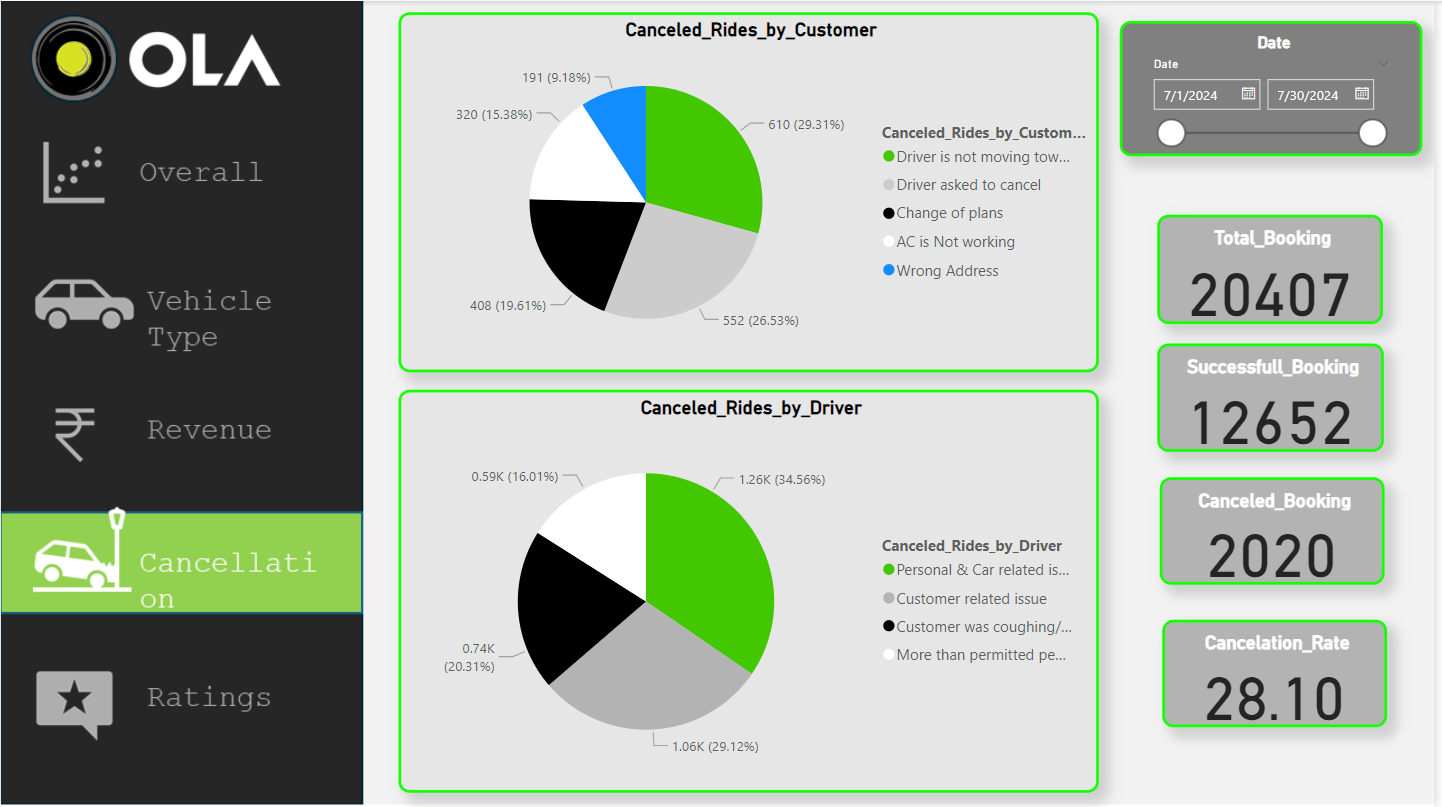

The dashboard page shown, as its layout file describes it:
{"tool":"powerbi","page":{"name":"Cancellation","canvas":[1280,720],"ordinal":3},"visuals":[{"type":"pieChart","title":"Canceled_Rides_by_Customer ","fields":{"Category":["Bookings_Cleaned.Canceled_Rides_by_Customer"],"Y":["CountNonNull(Bookings_Cleaned.Canceled_Rides_by_Customer)"]},"box":[354.6,10.2,625.4,321.8],"z":0},{"type":"pieChart","title":" Canceled_Rides_by_Driver","fields":{"Y":["CountNonNull(Bookings_Cleaned.Canceled_Rides_by_Driver)"],"Category":["Bookings_Cleaned.Canceled_Rides_by_Driver"]},"box":[354.6,347.8,625.4,360.3],"z":1},{"type":"slicer","title":"Date","fields":{"Values":["Bookings_Cleaned.Date"]},"box":[999.5,18,270.6,121],"z":2},{"type":"card","title":"Total_Booking","fields":{"Values":["Count(Bookings_Cleaned.Booking_ID)"]},"box":[1033.3,191.1,201.7,97.6],"z":3},{"type":"card","title":"Successfull_Booking","fields":{"Values":["Count(Bookings_Cleaned.Booking_ID)"]},"box":[1033,305.7,202.3,97.2],"z":4},{"type":"card","title":"Canceled_Booking","fields":{"Values":["Count(Bookings_Cleaned.Booking_ID)"]},"box":[1035.6,425.5,201,95.8],"z":5},{"type":"card","title":"Cancelation_Rate","fields":{"Values":["Bookings_Cleaned.Cancel Percantage"]},"box":[1037,553.3,201,95.8],"z":6}]}

Visuals, with their boxes in screenshot pixels (x1, y1, x2, y2), scaled from the page's 1280x720 canvas onto the 1442x807 screenshot:
"Canceled_Rides_by_Customer " pieChart: locate(399, 11, 1104, 372)
" Canceled_Rides_by_Driver" pieChart: locate(399, 390, 1104, 794)
"Date" slicer: locate(1126, 20, 1431, 156)
"Total_Booking" card: locate(1164, 214, 1391, 324)
"Successfull_Booking" card: locate(1164, 343, 1392, 452)
"Canceled_Booking" card: locate(1167, 477, 1393, 584)
"Cancelation_Rate" card: locate(1168, 620, 1395, 728)
